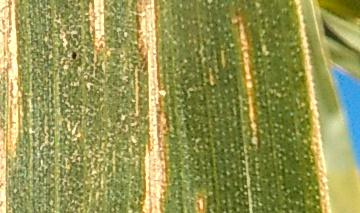tarspot: (69, 48, 78, 61)
